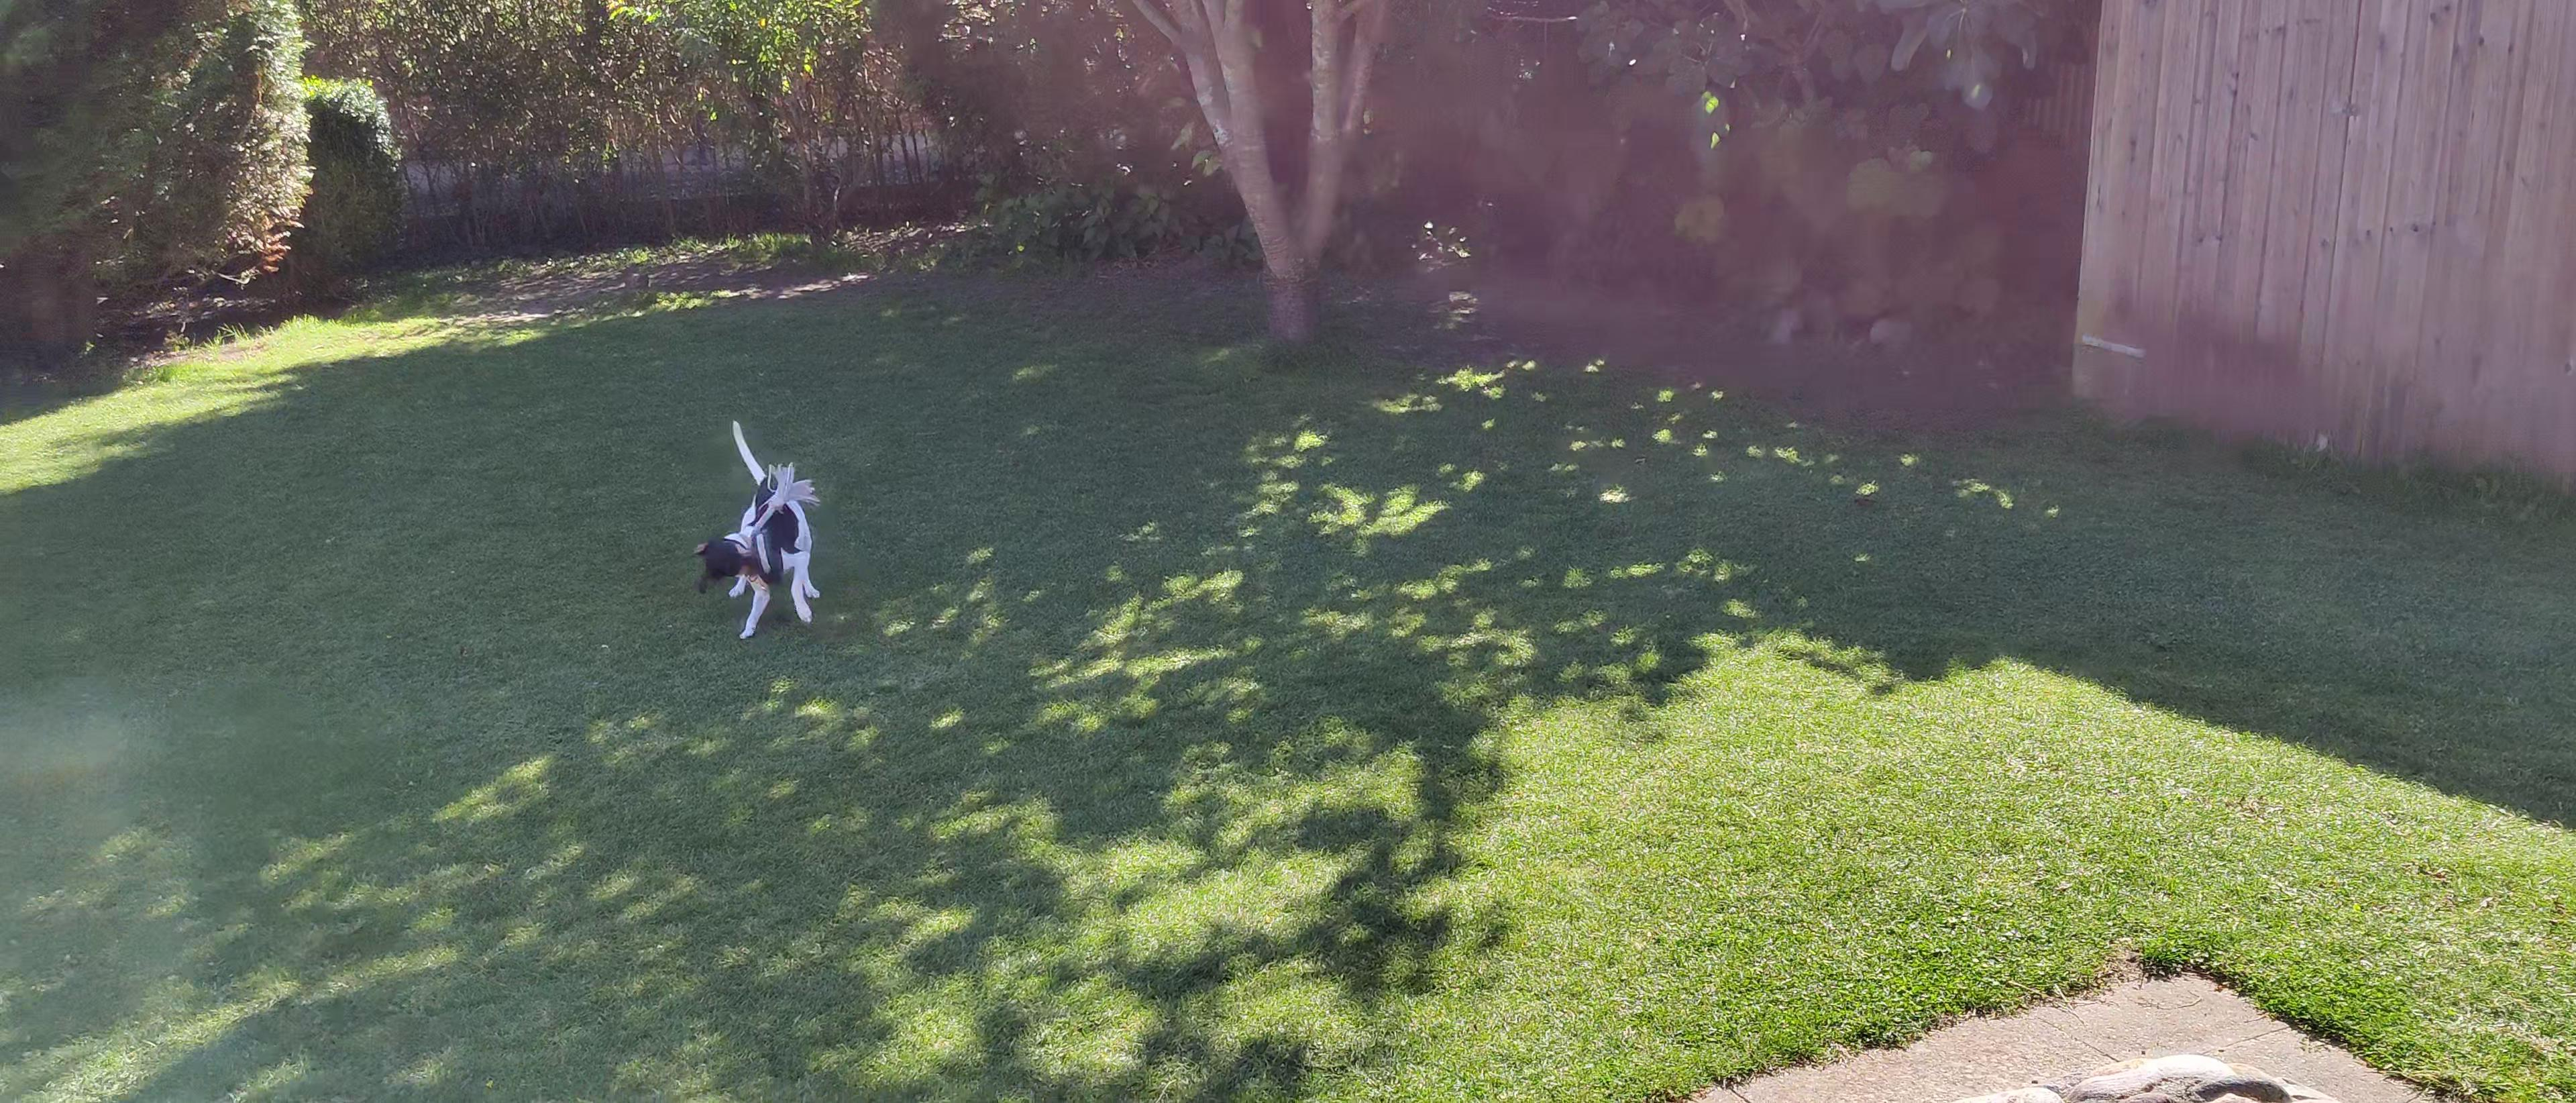Dog: (682, 414, 825, 643)
